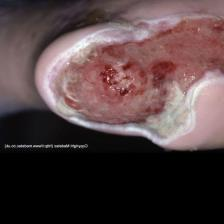Wound: (34, 7, 224, 144)
